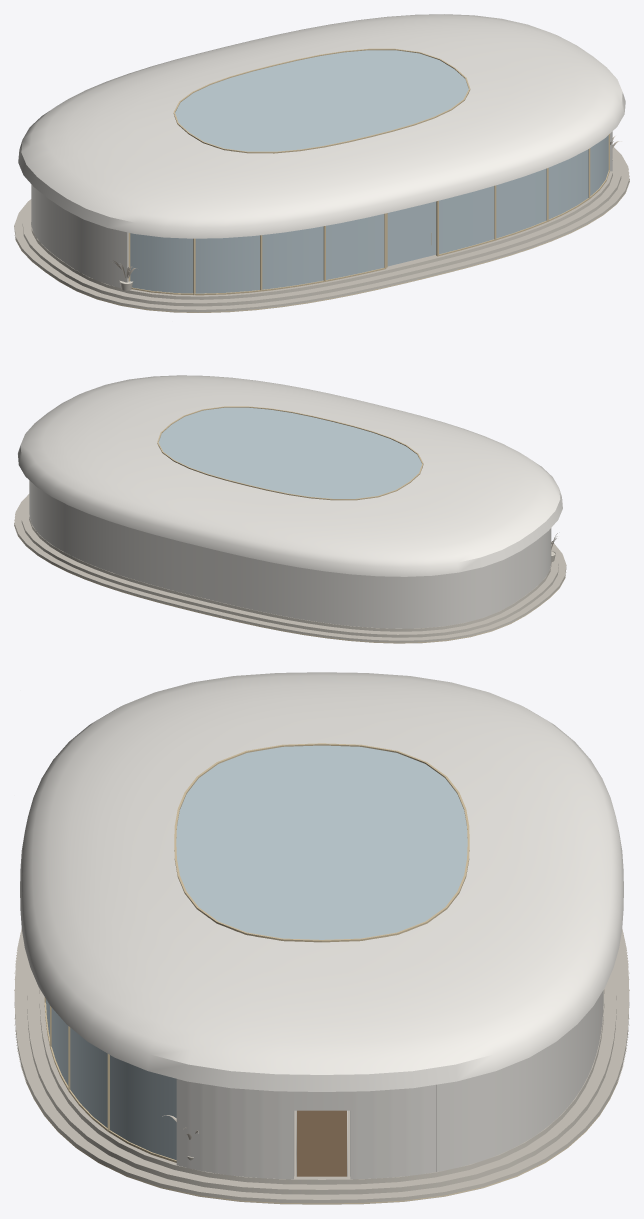
File: Nautilus.dae
3 views of the same model, one above another, from view 1: azimuth 30°, elevation 25°; view 2: azimuth 150°, elevation 25°; view 3: azimuth 270°, elevation 25° (orthographic). The views are drawn at different scales.
Visible parts, largest first — view 1: Nautilus_Roof, Nautilus_Glass_S, Nautilus_Floor, Nautilus_Wall_W, Nautilus_Door_S; view 2: Nautilus_Roof, Nautilus_Wall_N, Nautilus_Floor, Nautilus_Wall_W; view 3: Nautilus_Roof, Nautilus_Floor, Nautilus_Wall_E, Nautilus_Wall_N, Nautilus_Glass_S, Nautilus_Door_E.
Boxes of the visible parts, left/top/right/bottom form: Nautilus_Roof: left=18, top=14, right=625, bottom=238; Nautilus_Glass_S: left=128, top=134, right=609, bottom=295; Nautilus_Floor: left=14, top=147, right=629, bottom=312; Nautilus_Wall_W: left=32, top=185, right=128, bottom=287; Nautilus_Door_S: left=386, top=201, right=436, bottom=267; Nautilus_Roof: left=18, top=375, right=562, bottom=576; Nautilus_Wall_N: left=29, top=480, right=482, bottom=628; Nautilus_Floor: left=14, top=494, right=566, bottom=643; Nautilus_Wall_W: left=482, top=528, right=551, bottom=617; Nautilus_Roof: left=20, top=672, right=623, bottom=1091; Nautilus_Floor: left=14, top=929, right=629, bottom=1204; Nautilus_Wall_E: left=176, top=1079, right=435, bottom=1179; Nautilus_Wall_N: left=436, top=990, right=603, bottom=1171; Nautilus_Glass_S: left=44, top=997, right=176, bottom=1162; Nautilus_Door_E: left=296, top=1110, right=347, bottom=1176.
Size of the model in its own units: 27.44 by 17.44 by 4.94.
